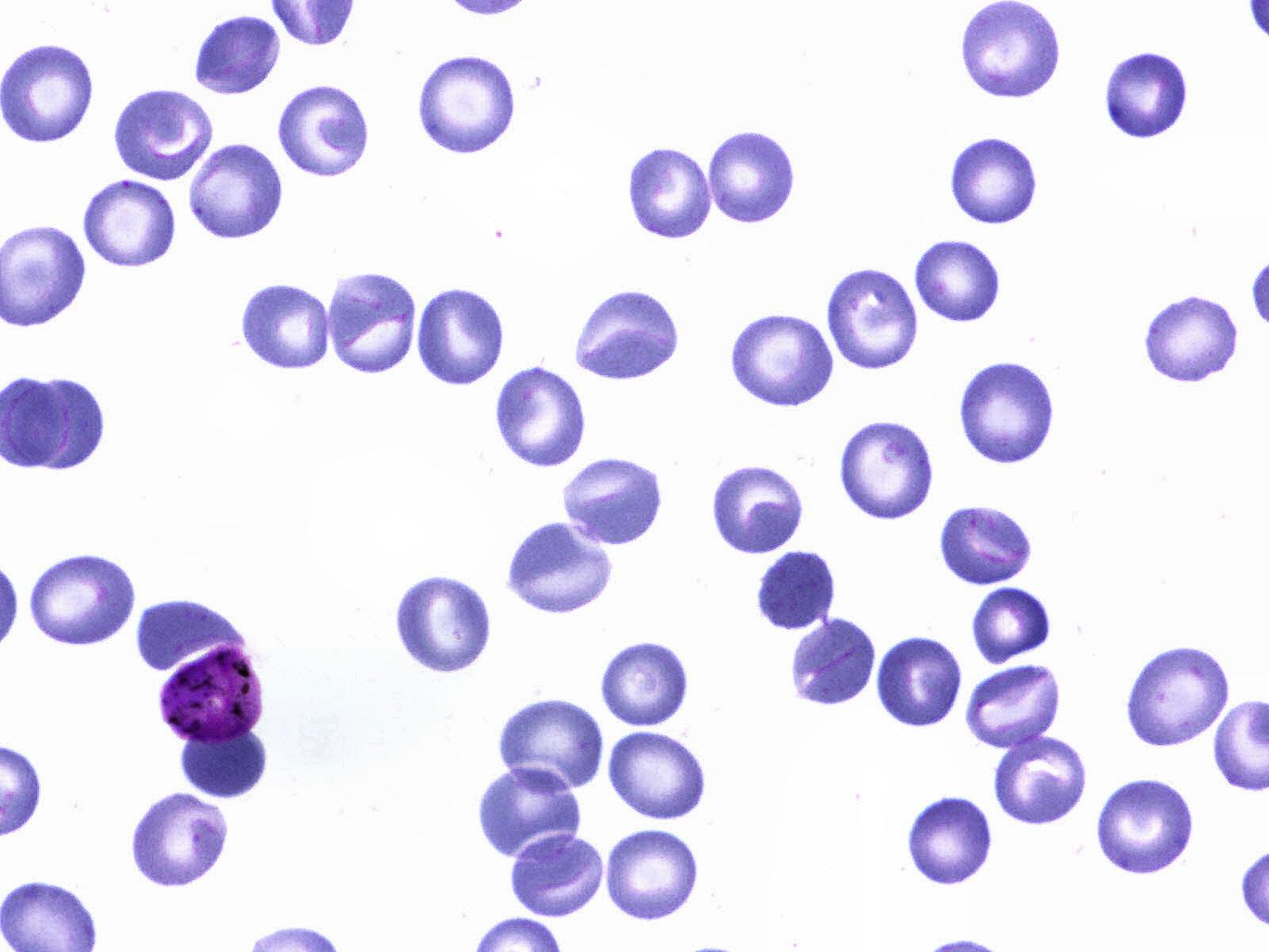Infected: (162, 648, 265, 744)
Uninfected: (1125, 645, 1234, 749), (957, 357, 1060, 467), (726, 310, 841, 408), (503, 523, 616, 619), (415, 54, 522, 155), (111, 87, 219, 186), (393, 572, 495, 675), (186, 141, 289, 243), (837, 417, 939, 520), (500, 697, 608, 794), (556, 455, 665, 551), (475, 762, 581, 858), (604, 726, 710, 821), (27, 555, 135, 648), (127, 792, 234, 885), (493, 367, 588, 470), (959, 6, 1064, 99), (826, 268, 918, 372), (1096, 779, 1197, 873), (573, 292, 678, 382), (968, 660, 1064, 755), (704, 129, 800, 224), (995, 730, 1088, 828), (707, 464, 812, 550), (508, 830, 606, 922), (8, 379, 103, 473), (325, 274, 416, 372), (601, 831, 700, 921), (1, 45, 91, 144), (415, 287, 504, 387), (788, 616, 882, 710), (876, 631, 965, 730), (905, 792, 995, 889), (281, 84, 370, 181), (623, 148, 716, 240), (136, 597, 240, 678), (1144, 298, 1244, 382), (951, 136, 1045, 225), (237, 285, 331, 373), (82, 182, 178, 267), (604, 639, 692, 731), (941, 505, 1035, 591), (1105, 50, 1194, 138), (194, 12, 282, 96), (914, 240, 1002, 324), (751, 550, 837, 634), (177, 723, 272, 797), (968, 586, 1052, 665)
